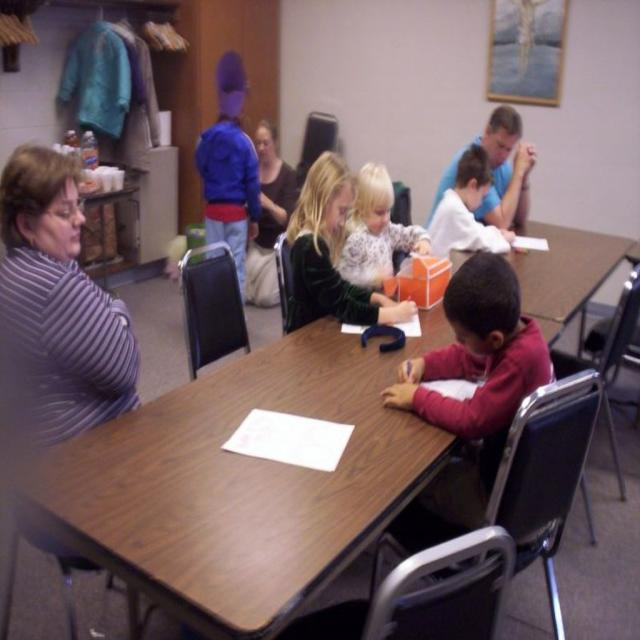chair: (374, 368, 604, 636), (550, 272, 640, 508), (366, 523, 518, 636), (180, 243, 252, 379), (276, 235, 294, 336)
desk: (10, 298, 621, 622)
person: (379, 250, 555, 536), (0, 140, 142, 473), (284, 151, 422, 335), (194, 50, 262, 306), (427, 104, 537, 234), (340, 163, 432, 294), (425, 147, 517, 266), (248, 118, 300, 305)
